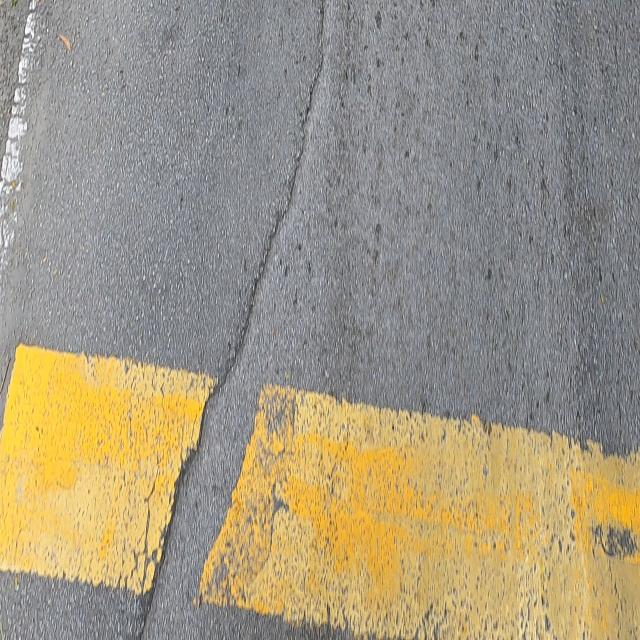Retak-Memanjang: (127, 3, 332, 640)
